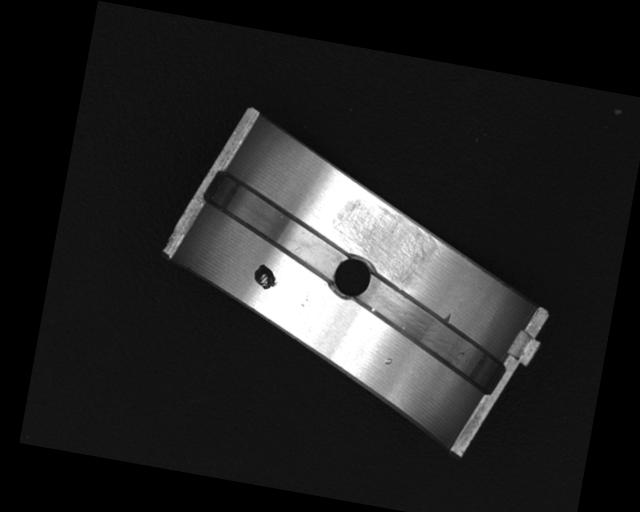blot: (251, 261, 280, 291)
bruise: (441, 311, 453, 326), (383, 355, 393, 367)
gap: (338, 266, 512, 397), (193, 159, 362, 288)
hole: (325, 250, 380, 307)
scratch: (319, 192, 443, 294)
